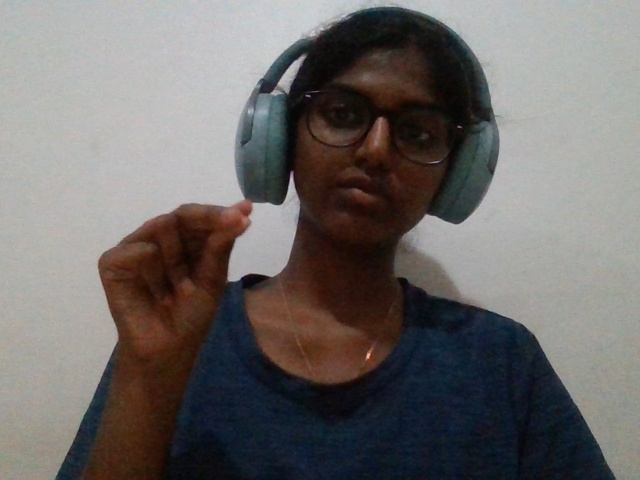No: (46, 187, 290, 419)
